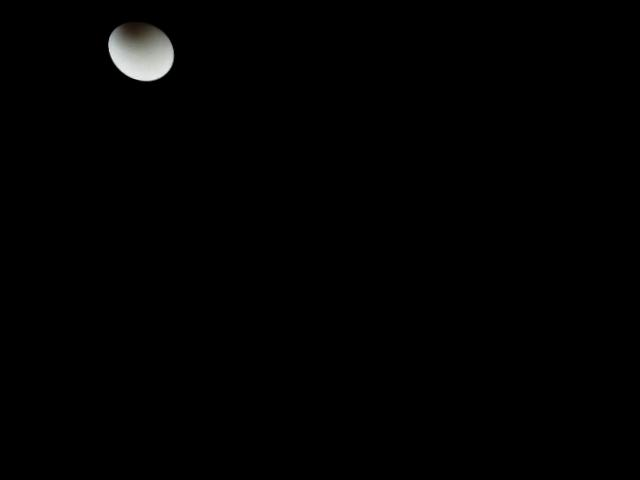egg: (106, 21, 174, 81)
